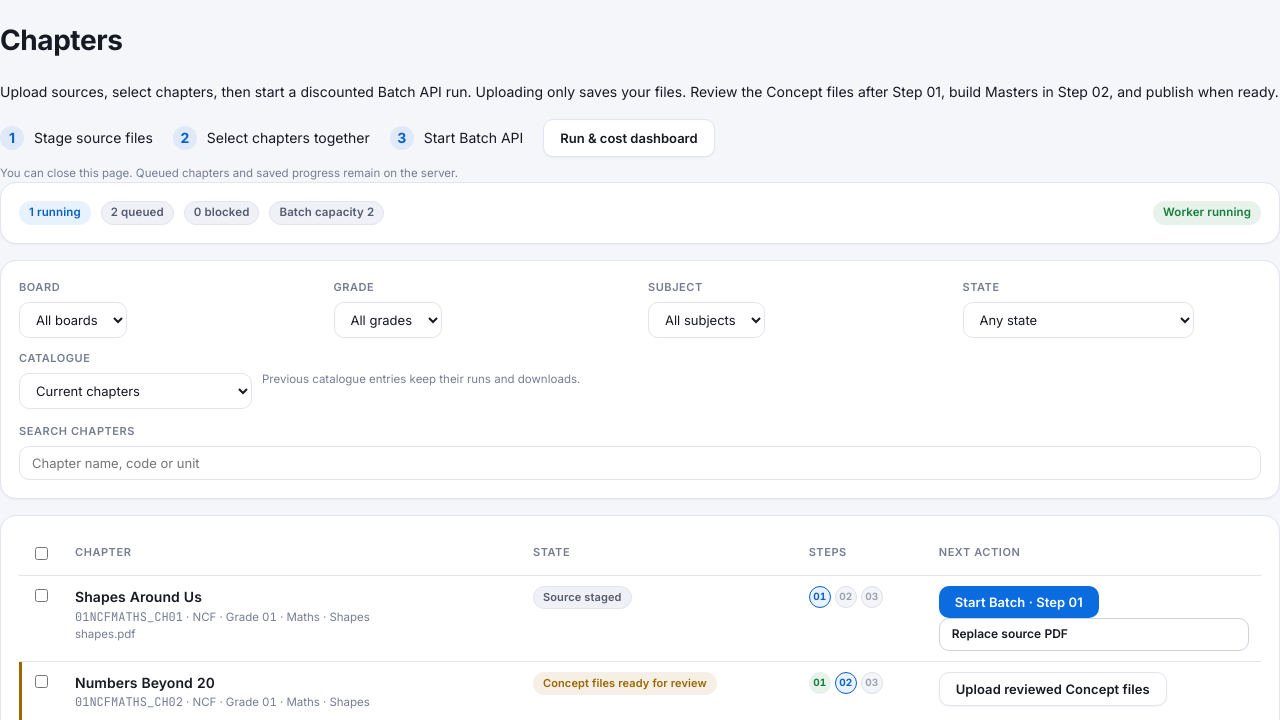
Test case: the filter bar narrows the request and cascades grade and subject
The width and height of the screenshot is (1280, 720).
Expected: the button "Shapes Around Us" is shown, [75,586,202,608]
Select "CBSE" in the dropdown labelled "Board" at (73, 320), box [19,302,127,338]
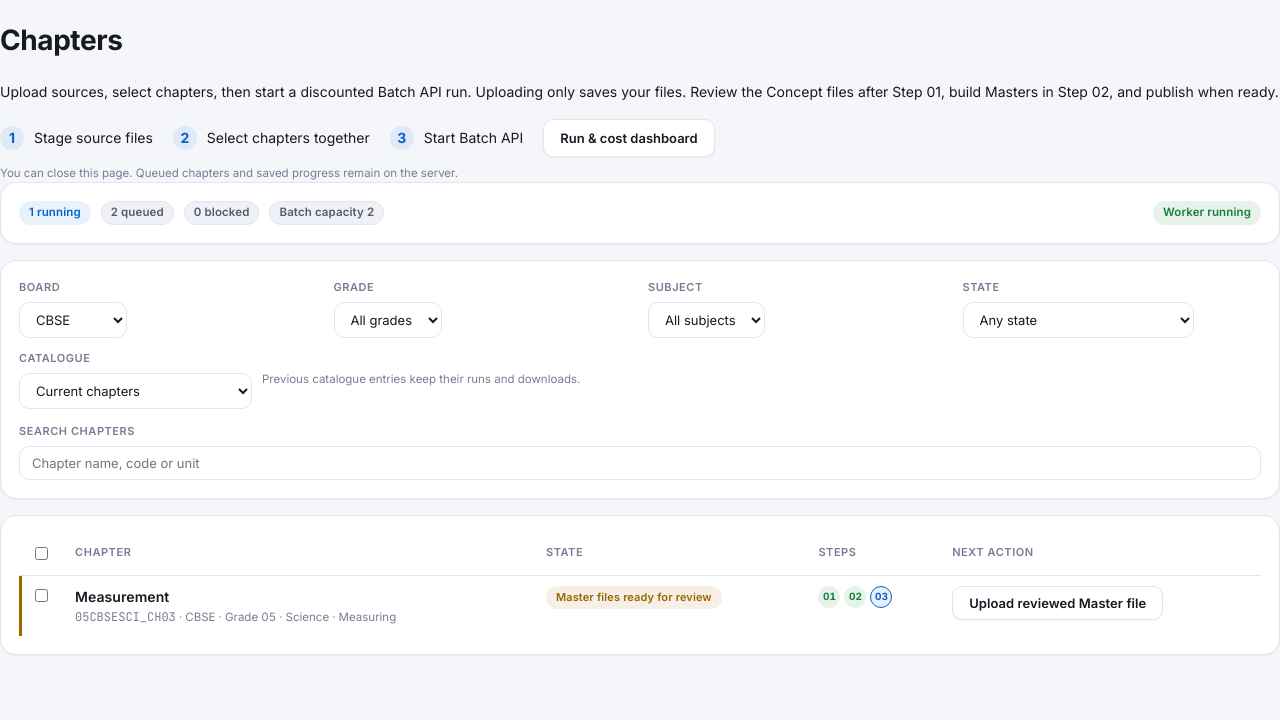
Expected: the button "Measurement" is shown, [75,586,169,608]
Result: the button "Shapes Around Us" is gone
